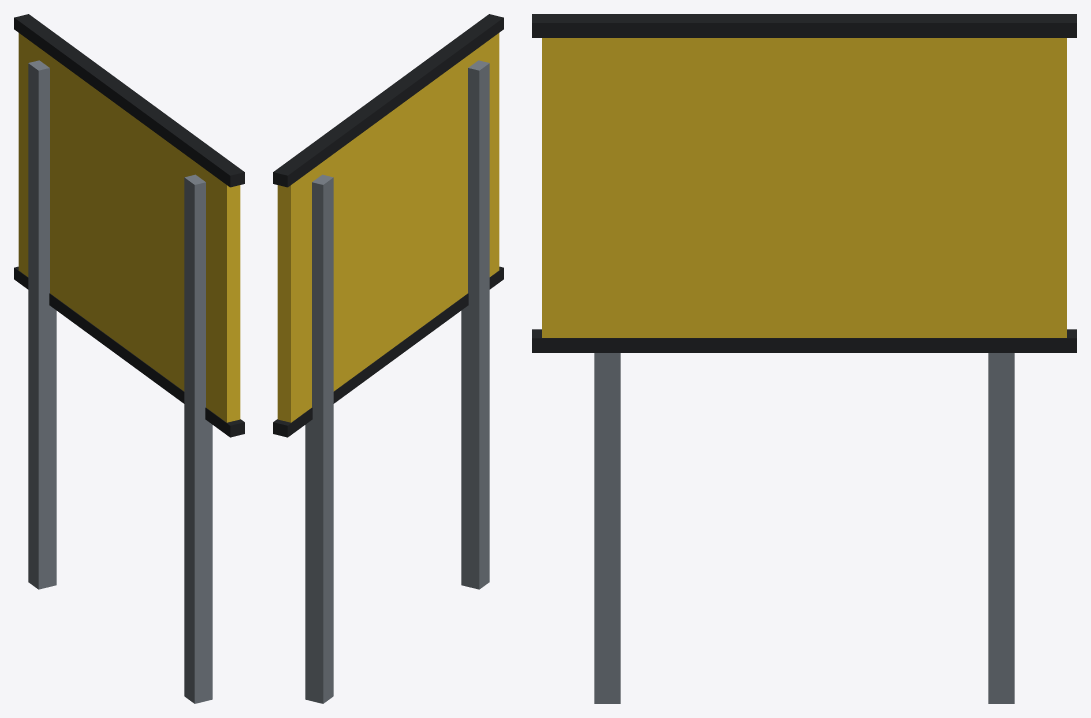
Rendered from skylt_skydd.glb.
3 views of the same model, side by side, from view 1: azimuth 30°, elevation 25°; view 2: azimuth 150°, elevation 25°; view 3: azimuth 270°, elevation 25° (orthographic). The views are drawn at different scales.
Parts seen in each view (by area): view 1: skylt_skydd; view 2: skylt_skydd; view 3: skylt_skydd.
Boxes of the visible parts, x1,y1,x2,y2 form: skylt_skydd: [14, 14, 244, 703]; skylt_skydd: [273, 14, 503, 703]; skylt_skydd: [532, 14, 1076, 703].
Bounding box in the file's own units: 0.1125 × 2.3 × 1.66.
